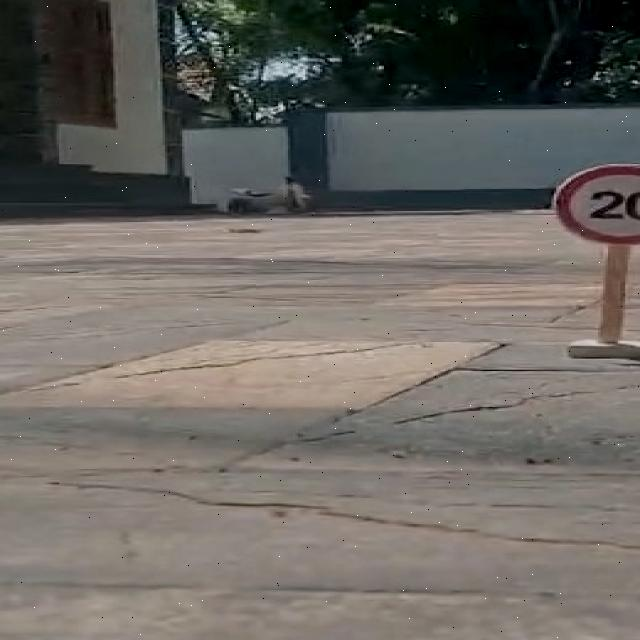Speed20: (529, 152, 640, 252)
